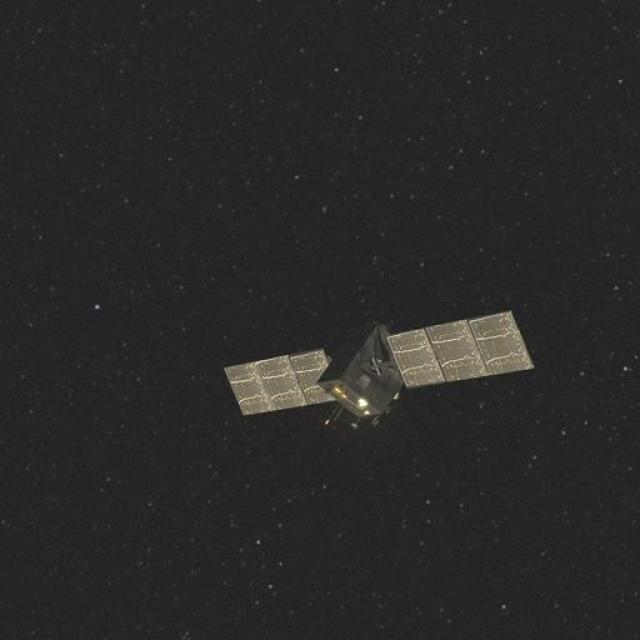smart_1: (197, 299, 571, 434)
